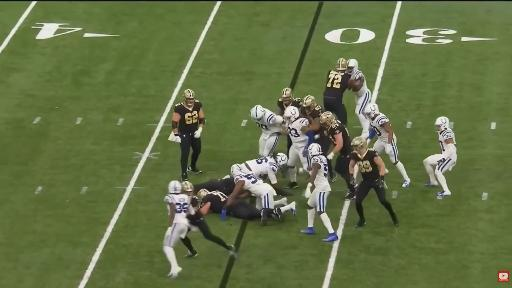Helmet: (351, 137, 367, 154), (363, 103, 379, 119), (284, 106, 299, 123), (281, 87, 293, 107), (302, 96, 316, 113), (250, 105, 265, 120), (320, 112, 335, 127), (435, 117, 449, 131), (274, 153, 287, 168), (308, 143, 321, 158), (183, 89, 194, 106), (168, 181, 181, 194), (347, 59, 358, 74), (336, 58, 347, 71), (182, 182, 193, 194), (231, 164, 241, 176), (197, 189, 208, 199)
Jersey: (244, 156, 279, 183), (174, 101, 202, 133), (234, 172, 271, 196), (351, 149, 379, 180), (324, 70, 351, 102), (327, 120, 351, 155), (165, 194, 190, 223), (311, 155, 331, 191), (255, 109, 281, 135), (287, 118, 309, 144), (370, 113, 389, 143), (202, 191, 227, 213), (352, 70, 368, 98), (439, 128, 456, 153), (300, 105, 324, 121), (300, 105, 324, 119), (278, 98, 301, 112), (220, 176, 234, 195), (187, 211, 202, 225)
Player: (350, 137, 398, 227), (364, 104, 410, 187), (223, 165, 295, 218), (302, 144, 338, 241), (169, 89, 205, 181), (164, 181, 195, 278), (321, 112, 355, 199), (187, 196, 235, 255), (424, 117, 456, 195), (284, 106, 309, 187), (347, 59, 371, 138), (241, 153, 287, 194), (324, 58, 351, 124), (250, 105, 282, 156), (227, 198, 273, 225), (301, 96, 324, 135), (195, 176, 234, 195), (278, 88, 301, 116)
